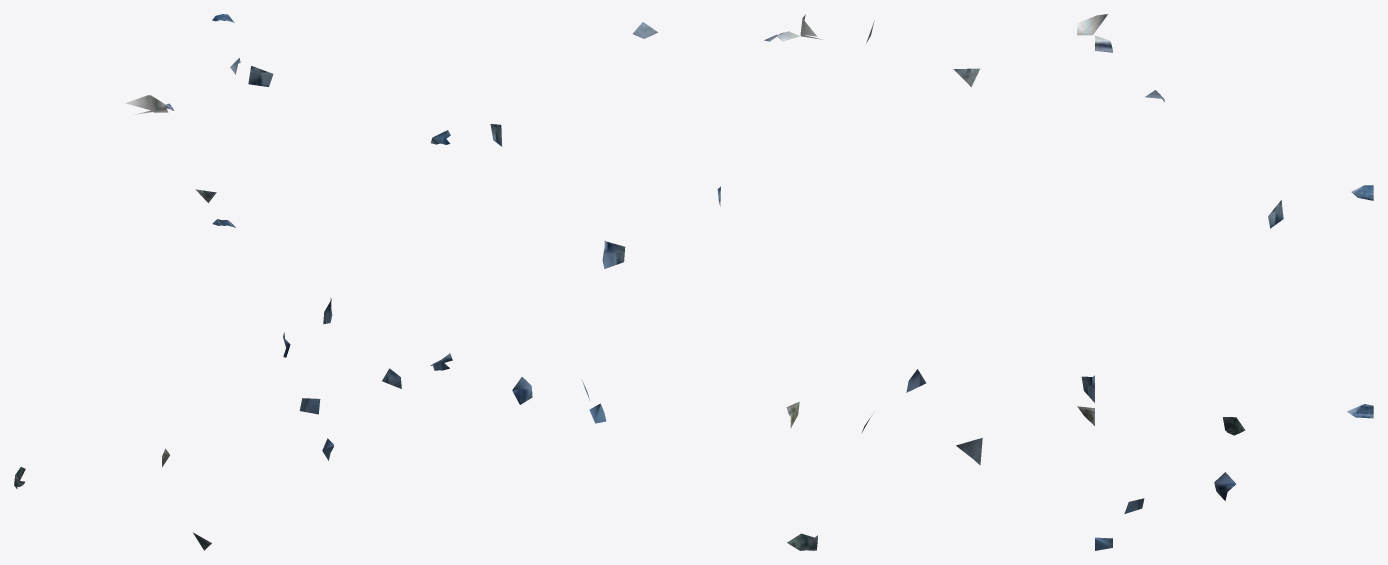
The picture shows the model from 3 angles, left to right: view 1: azimuth 30°, elevation 25°; view 2: azimuth 150°, elevation 25°; view 3: azimuth 270°, elevation 25°; orthographic projection. The views are drawn at different scales.
Visible parts, largest first — view 1: 30436272704370616415_1; view 2: 30436272704370616415_1; view 3: 30436272704370616415_1.
Boxes of the visible parts, box(x1,y1,x2,y2) form: 30436272704370616415_1: box(14, 14, 401, 550); 30436272704370616415_1: box(430, 14, 874, 550); 30436272704370616415_1: box(906, 14, 1373, 550).
Bounding box in the file's own units: 24.08 × 34.36 × 32.09.
Materials: 1 (1 with a texture image).
